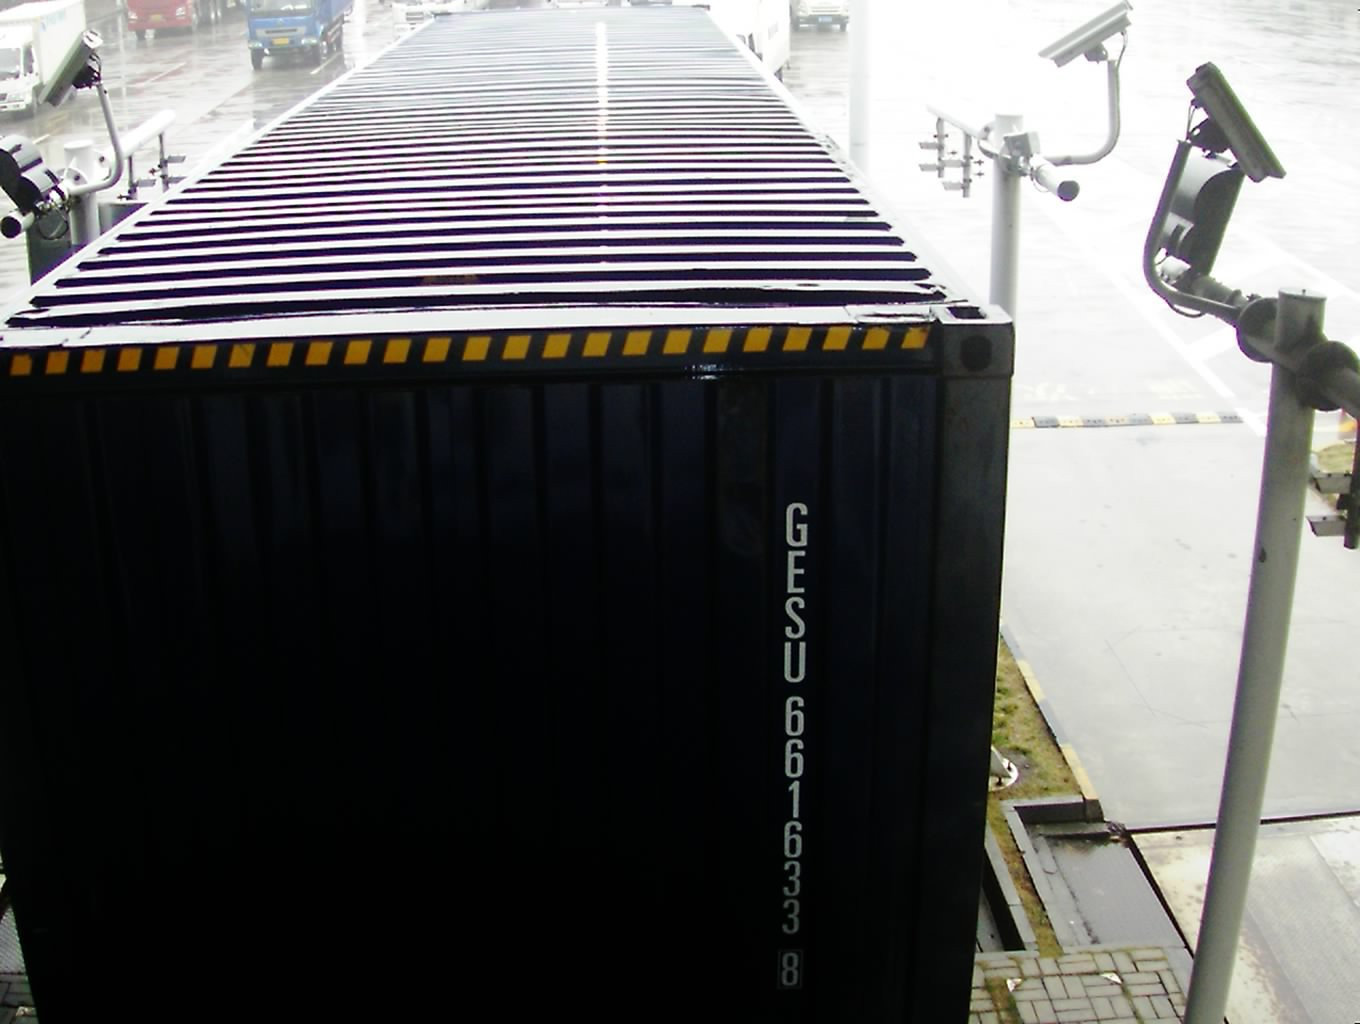words: (773, 490, 817, 993)
